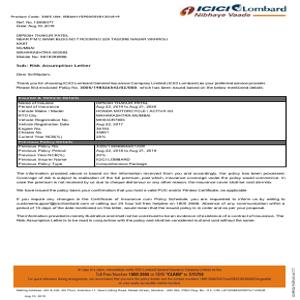table: (17, 96, 286, 166)
text: (15, 170, 287, 228), (8, 13, 169, 75), (13, 78, 267, 92)
